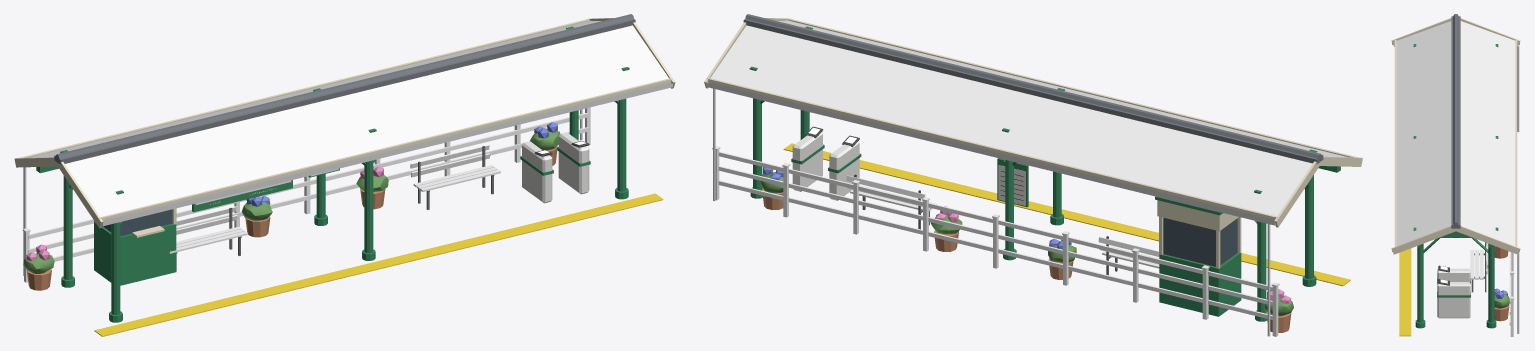
The model's file is eno_station.glb.
3 views of the same model, side by side, from view 1: azimuth 30°, elevation 25°; view 2: azimuth 150°, elevation 25°; view 3: azimuth 270°, elevation 25° (orthographic). The views are drawn at different scales.
Parts seen in each view (by area): view 1: eno_station_body; view 2: eno_station_body; view 3: eno_station_body.
Part boxes in pixels (x1,y1,x2,y2): eno_station_body: [14, 14, 675, 336]; eno_station_body: [704, 14, 1362, 336]; eno_station_body: [1391, 14, 1520, 336].
Size of what is drawn, in the model's own units: 12.55 by 3.24 by 3.27.
